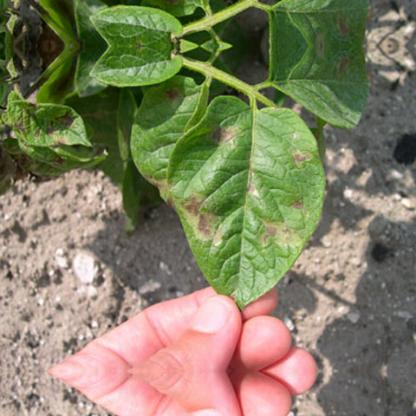Late-Blight: (87, 45, 392, 299)
